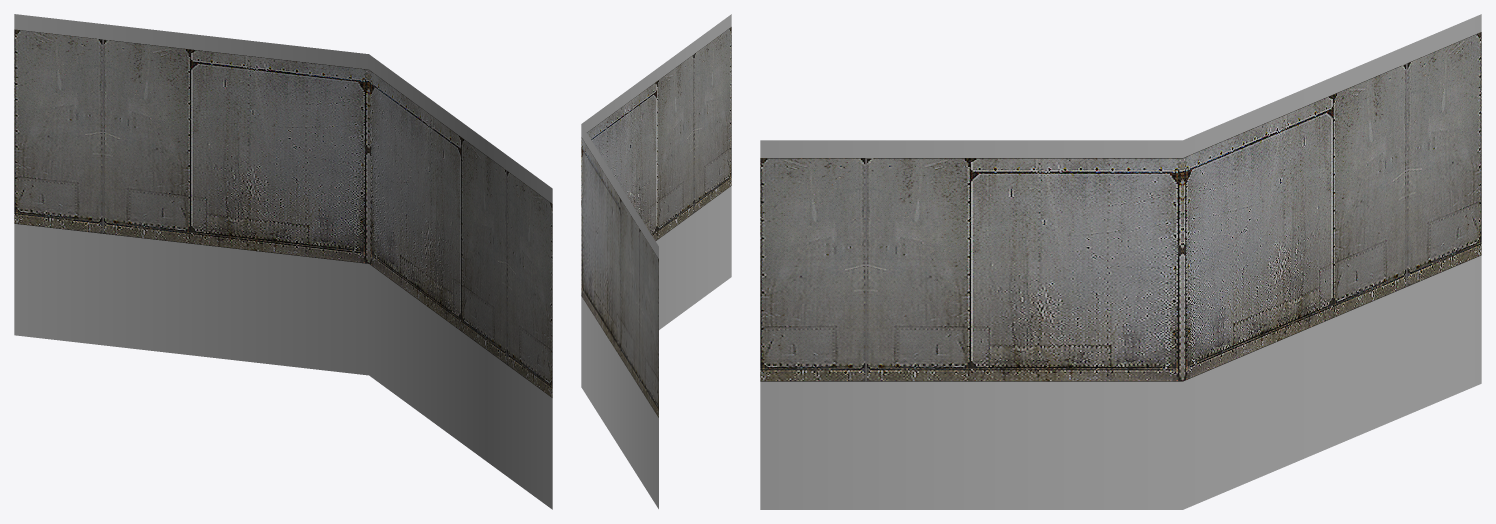
File: Wall_A_Short2mts_11.fbx
3 views of the same model, side by side, from view 1: azimuth 30°, elevation 25°; view 2: azimuth 150°, elevation 25°; view 3: azimuth 270°, elevation 25° (orthographic). The views are drawn at different scales.
Visible parts, largest first — view 1: Wall_A_Short2mts_11; view 2: Wall_A_Short2mts_11; view 3: Wall_A_Short2mts_11.
Part boxes in pixels (x1,y1,x2,y2): Wall_A_Short2mts_11: (14,14,552,509); Wall_A_Short2mts_11: (581,14,731,508); Wall_A_Short2mts_11: (760,14,1481,509).
Bounding box in the file's own units: 147 × 200 × 354.
